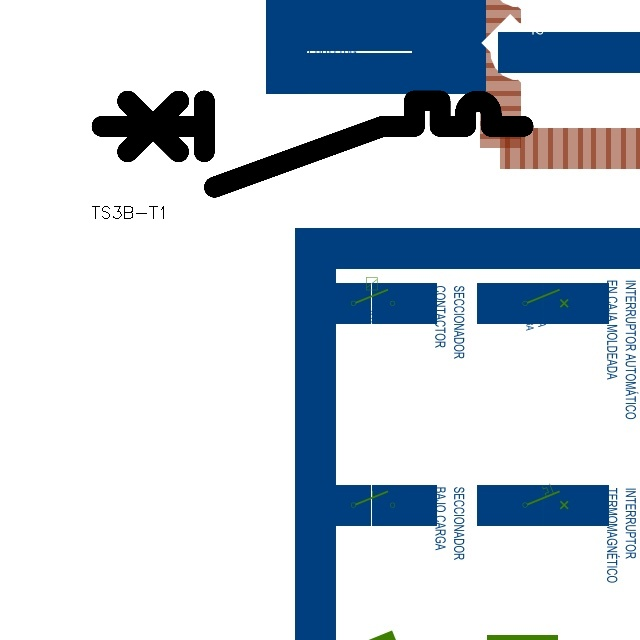interruptor_termomagnetico: (91, 90, 534, 198)
